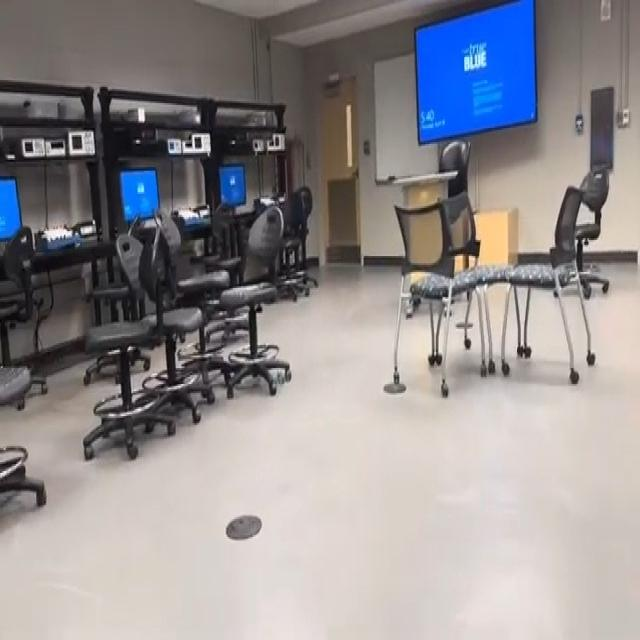drone: (267, 349, 292, 395)
